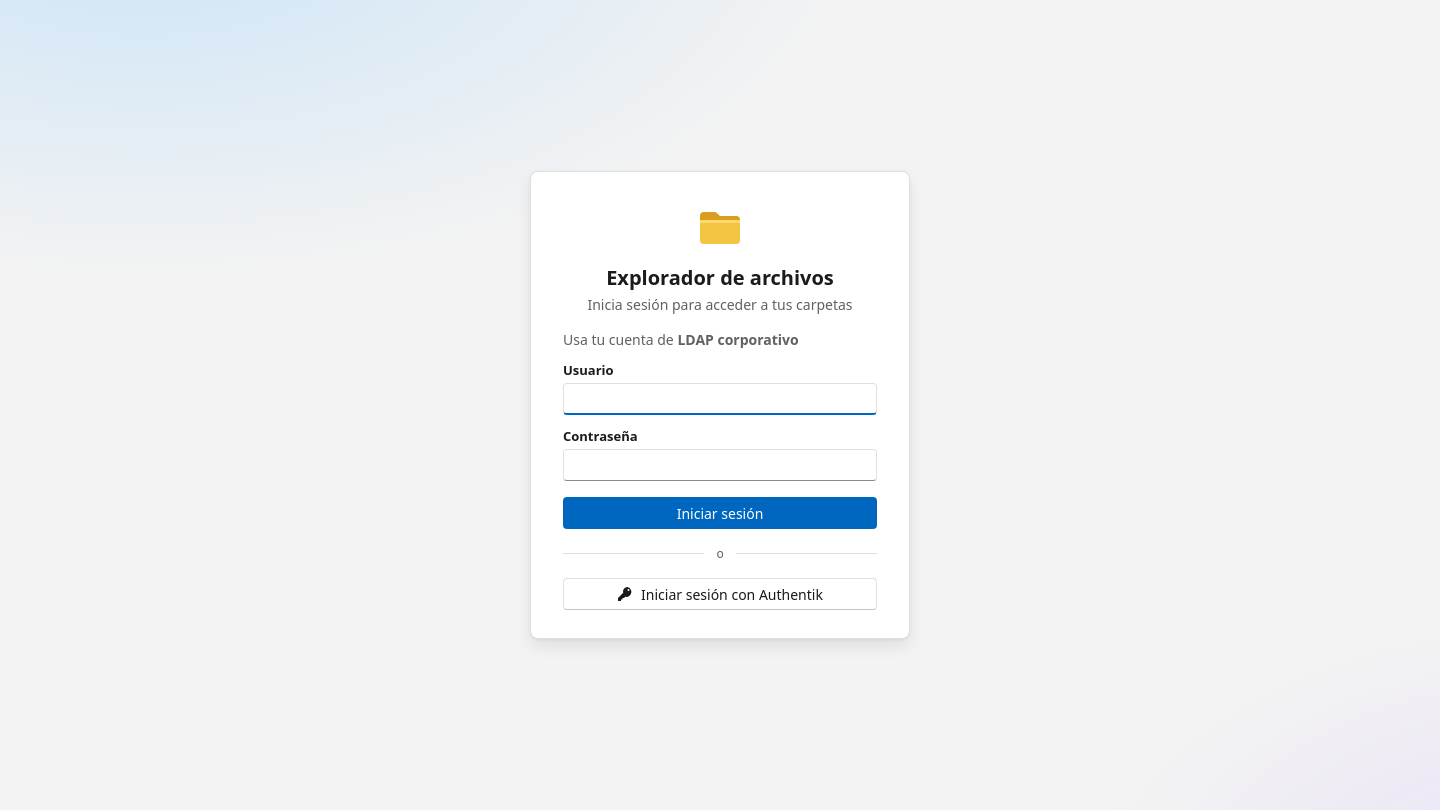
it: LoginPage › shows bad credentials and clears the password
The image size is (1440, 810).
Type "alice" into the field labelled "Usuario".
click(720, 399); type("alice")  # box [563, 383, 877, 415]
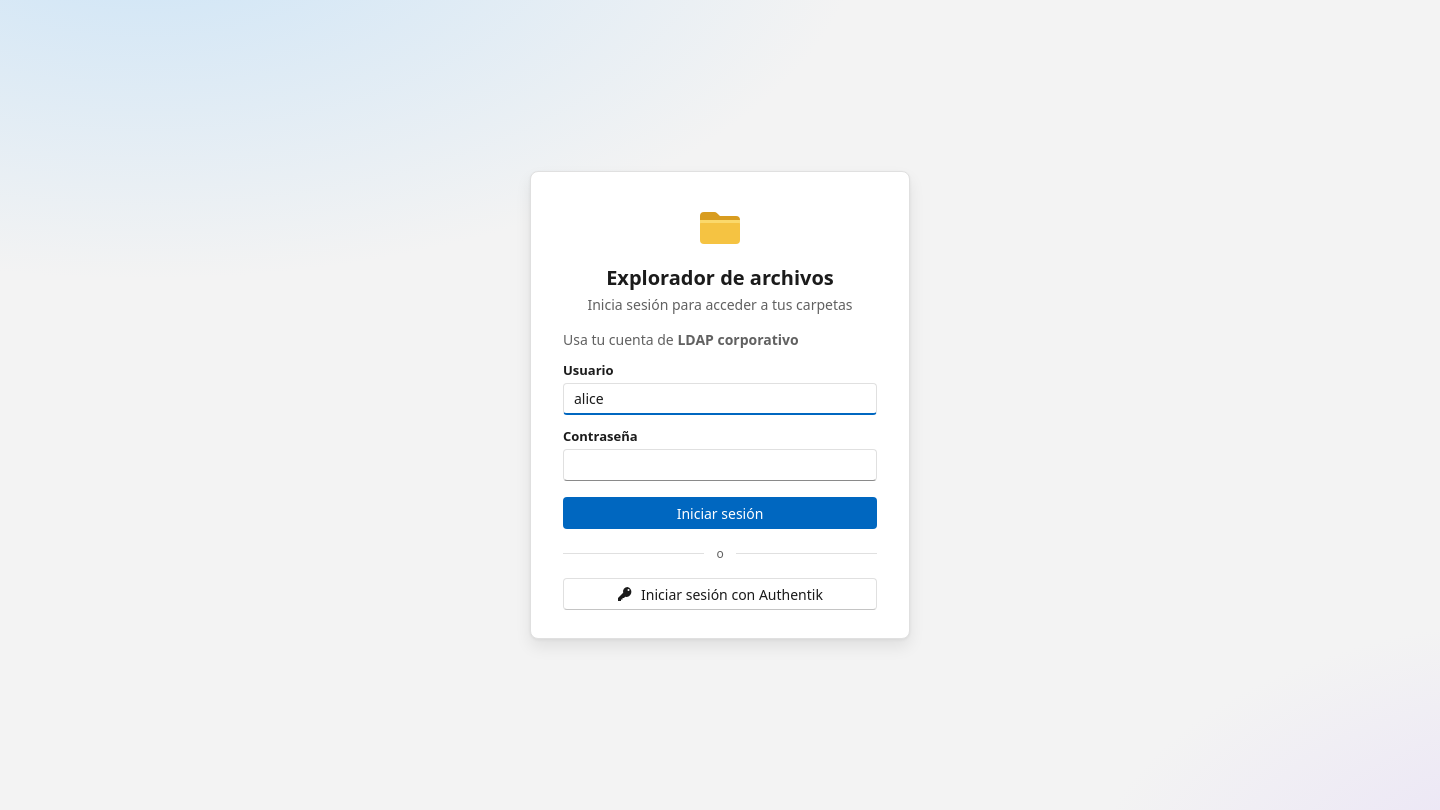
Type "wrong" into the password field labelled "Contraseña".
click(720, 465); type("wrong")  # box [563, 449, 877, 481]
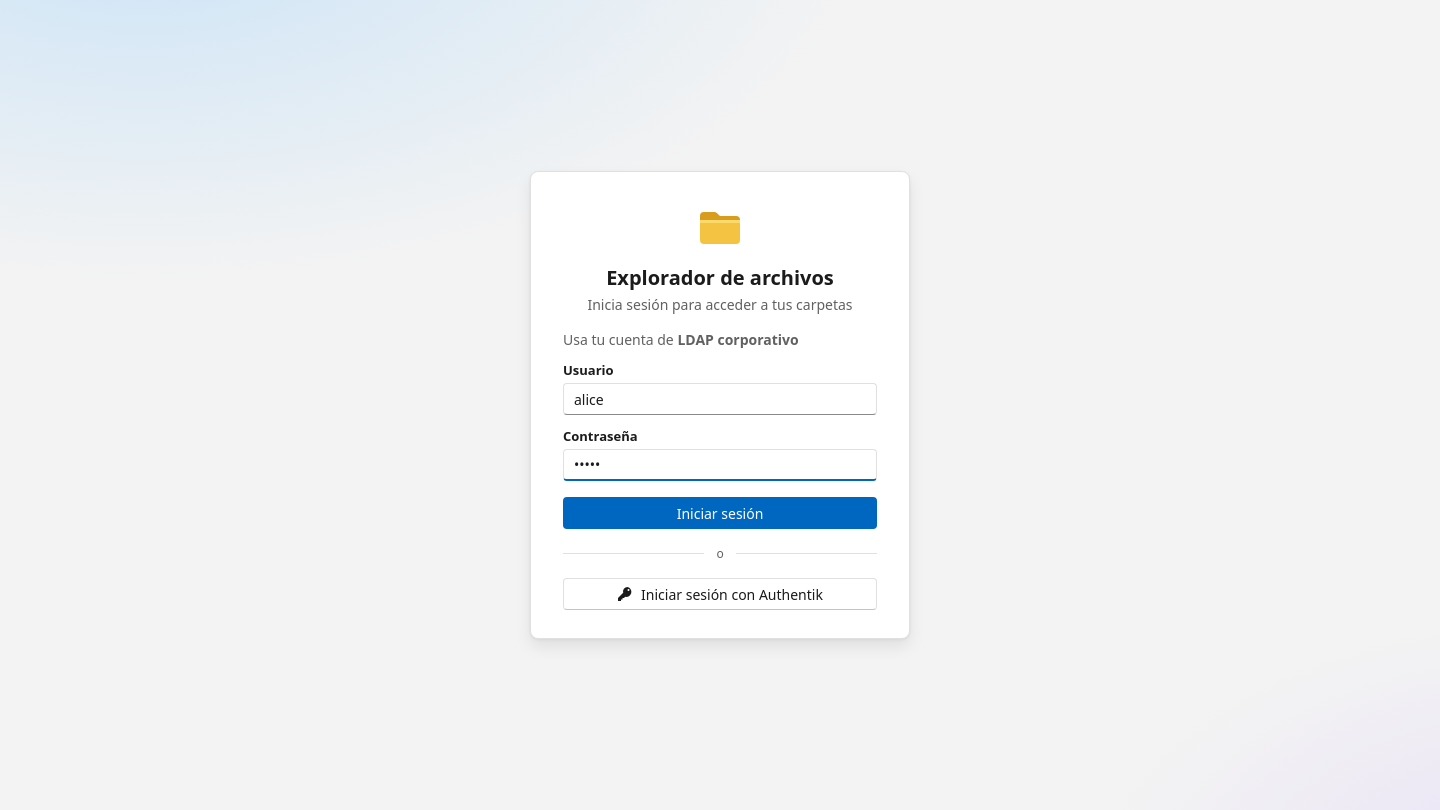
Click the button "Iniciar sesión".
click(720, 513)  # box [563, 497, 877, 529]
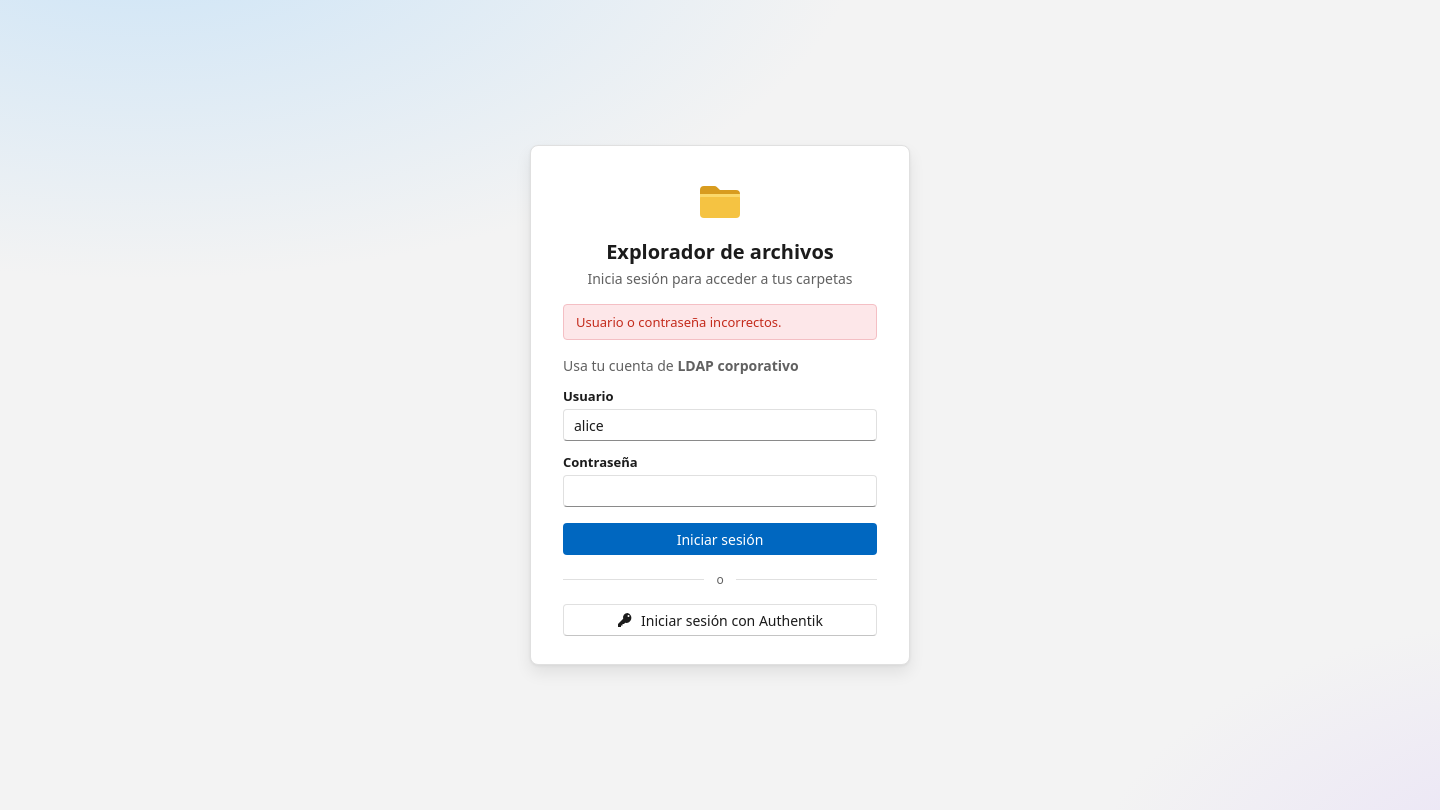
Now the message reads "Usuario o contraseña incorrectos.", box [576, 313, 782, 331]
Now the password field labelled "Contraseña" is empty, box [563, 475, 877, 507]
